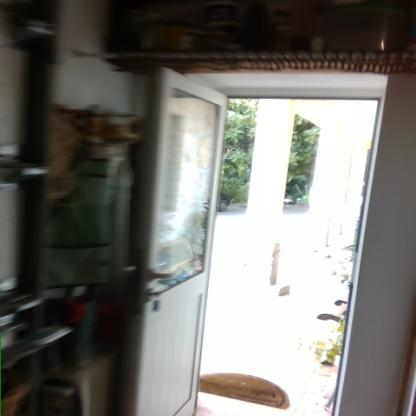open: (125, 61, 386, 415)
